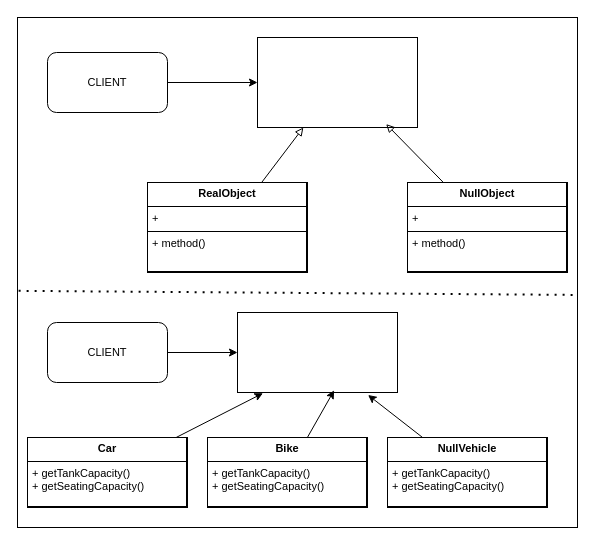
This 596x545 diagram has some shape labels left out. The box of each missing label's shape, as (x1, y1, x2, y2) in pixels:
<<interface>> Vehicle + getTankCapacity() + getSeatingCapacity(): (236, 312, 398, 392)
AbstractObject + + method(): (256, 36, 418, 128)
